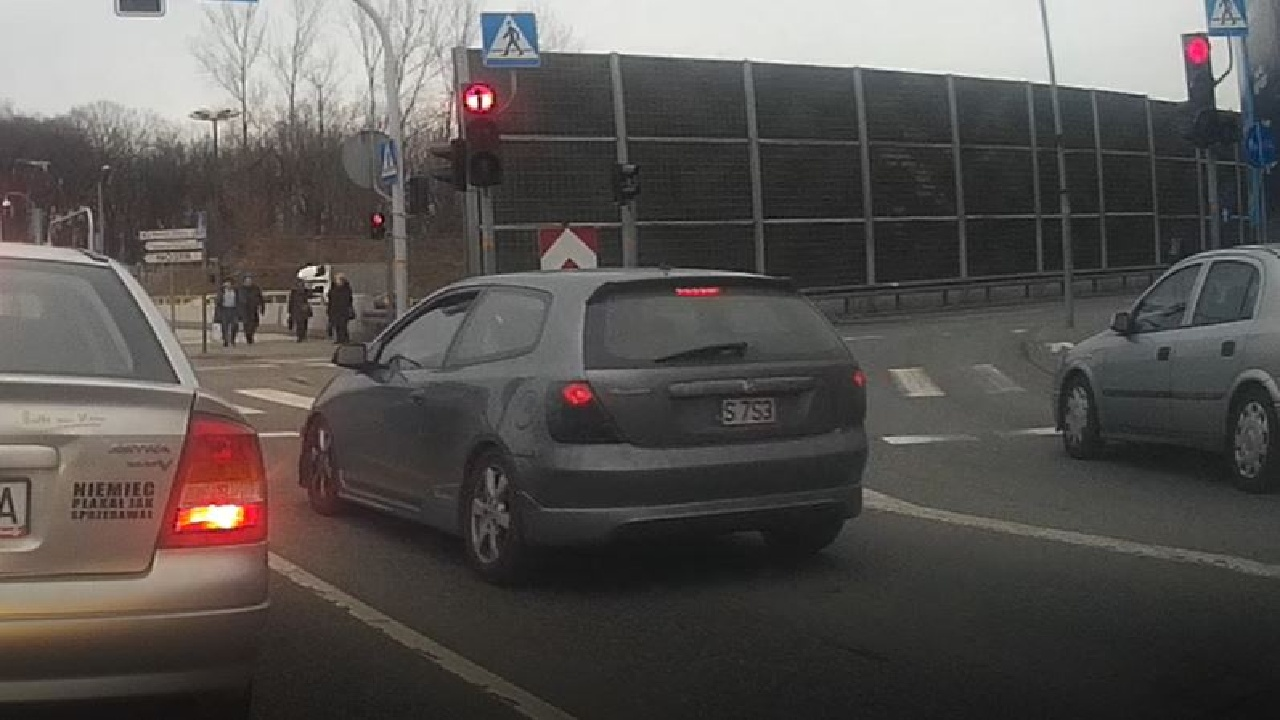D6: (474, 6, 549, 72), (1206, 1, 1251, 40)
